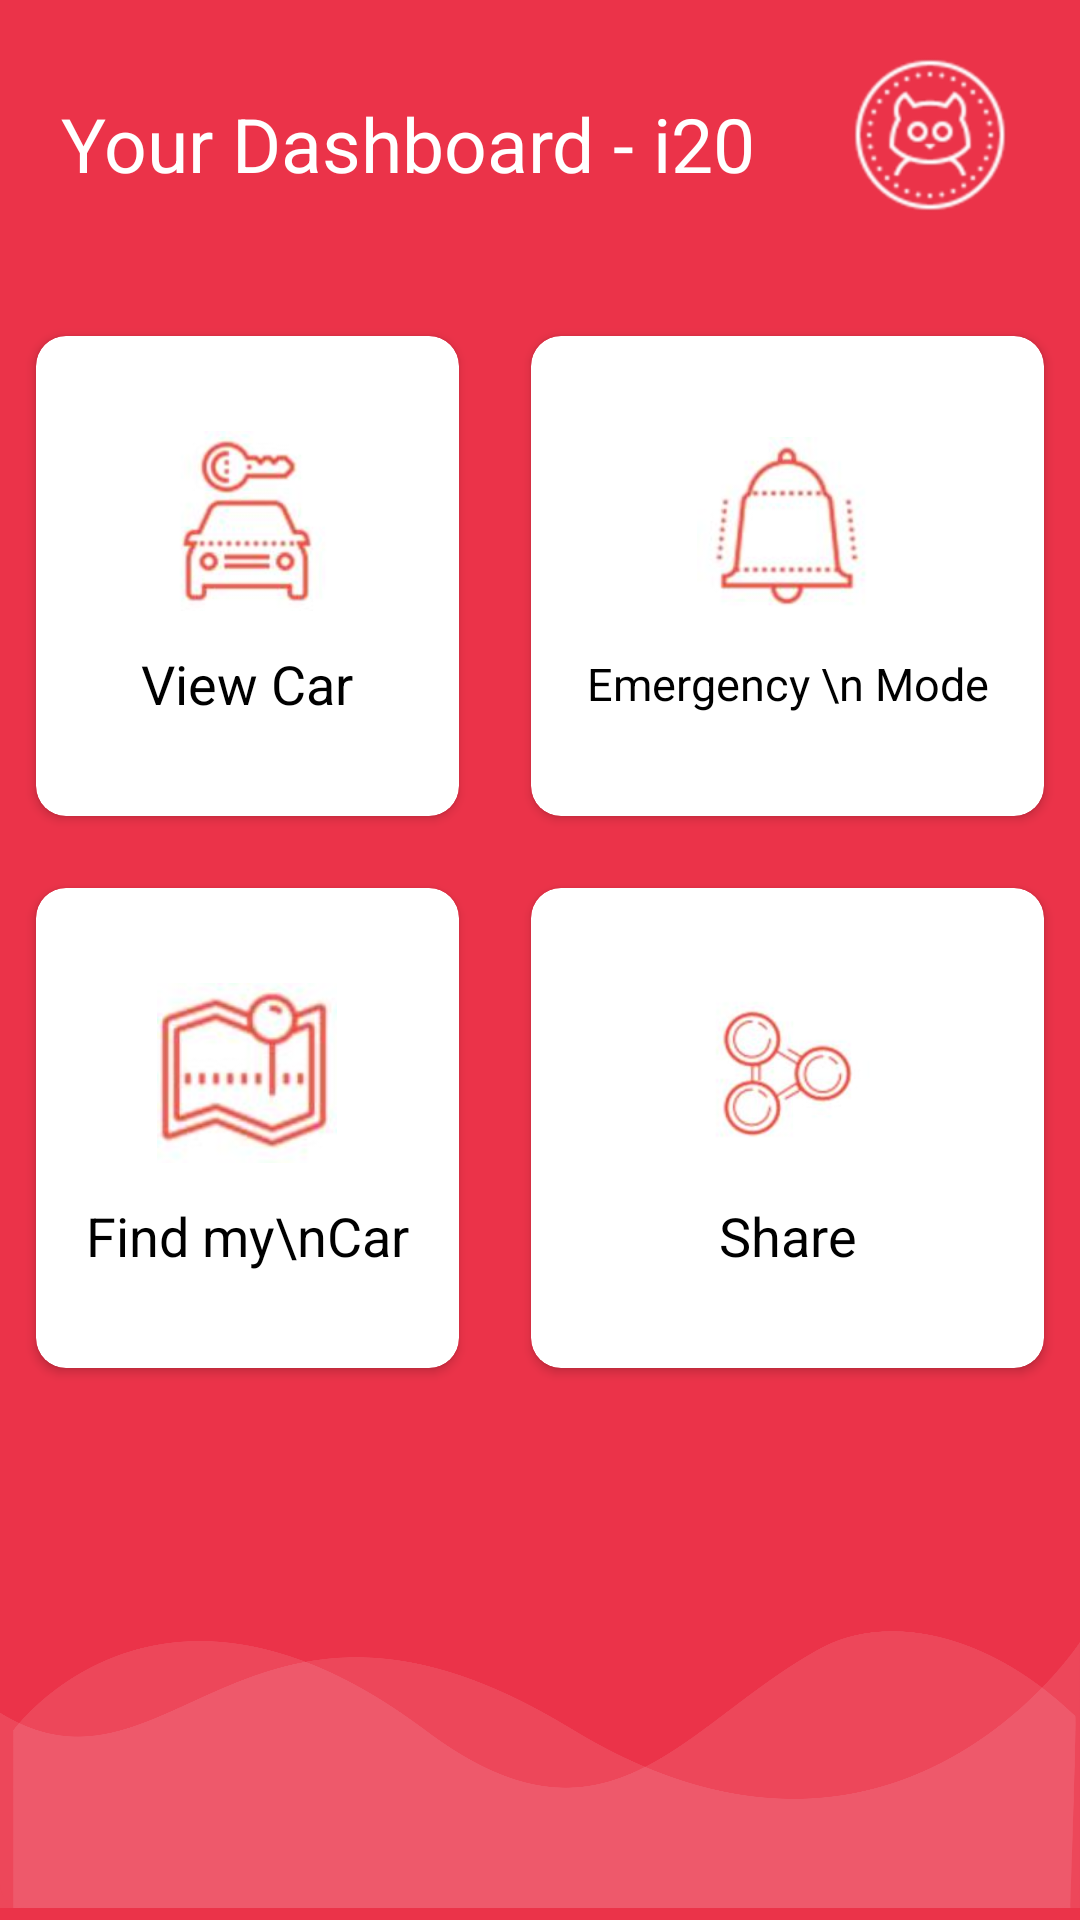

Point at icon controls on the screen. Image size 1080*1920, points as point (x, y).
alarm: point (787, 526)
track: point (242, 1070)
